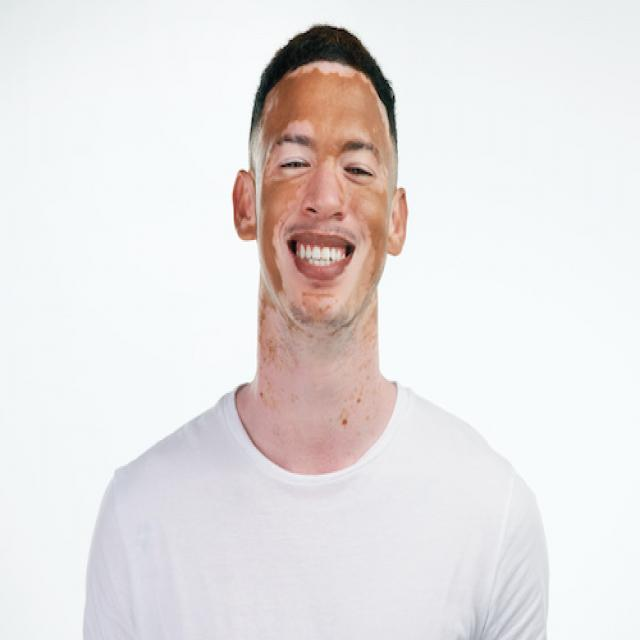vitiligo: (266, 60, 390, 368)
